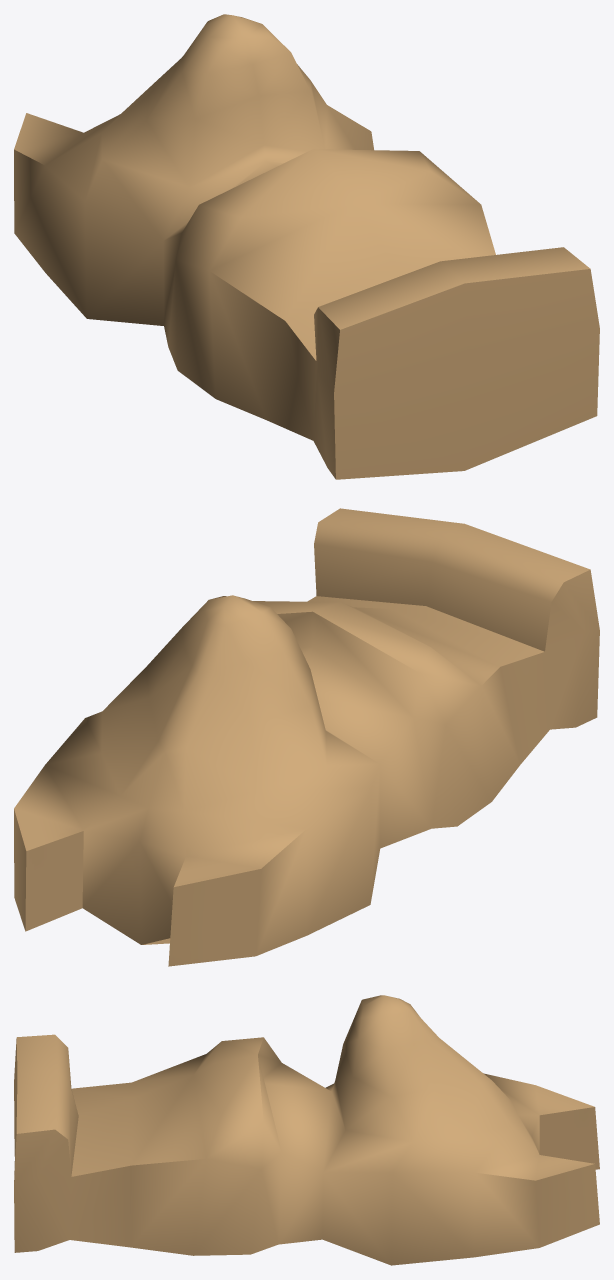
File: sacrografo (1).fbx
The picture shows the model from 3 angles, top to bottom: view 1: azimuth 30°, elevation 25°; view 2: azimuth 150°, elevation 25°; view 3: azimuth 270°, elevation 25°; orthographic projection. The views are drawn at different scales.
Visible parts, largest first — view 1: Cube.001; view 2: Cube.001; view 3: Cube.001.
Part boxes in pixels (bbox=[...]): Cube.001: bbox=[14, 14, 599, 479]; Cube.001: bbox=[14, 508, 599, 966]; Cube.001: bbox=[14, 995, 599, 1265].
Bounding box in the file's own units: 97.98 × 99.48 × 219.
